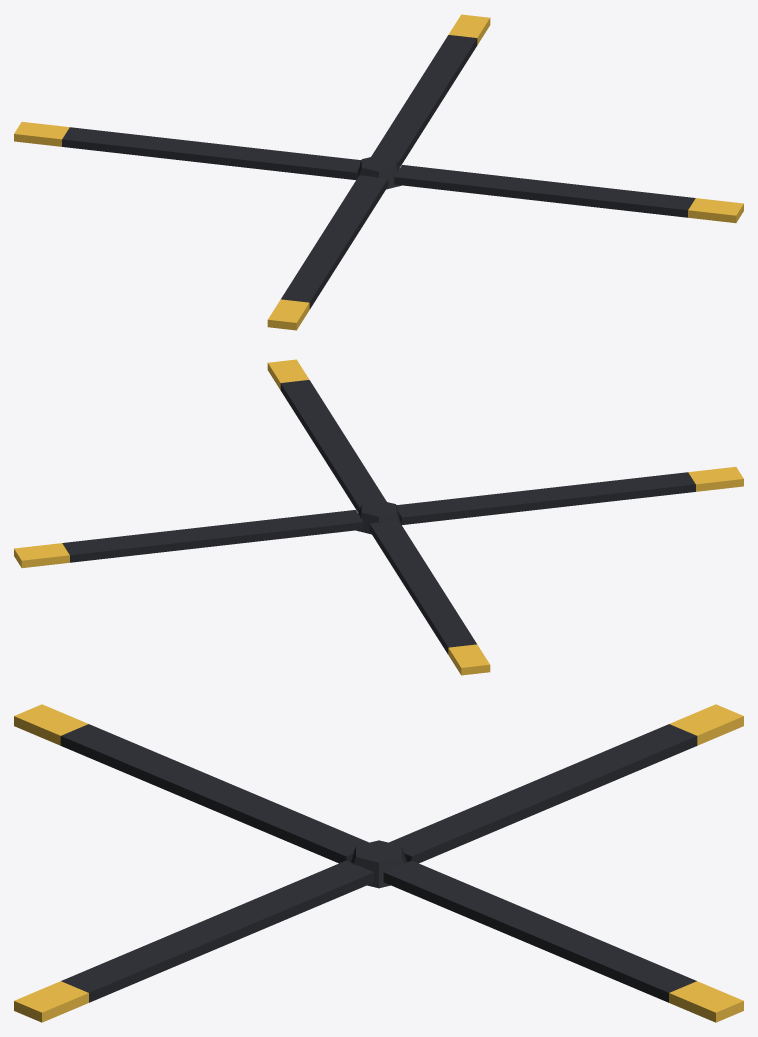
File: V_PoliceHeliRotor.fbx
3 views of the same model, one above another, from view 1: azimuth 30°, elevation 25°; view 2: azimuth 150°, elevation 25°; view 3: azimuth 270°, elevation 25° (orthographic). The views are drawn at different scales.
Visible parts, largest first — view 1: V_PoliceHeliRotor; view 2: V_PoliceHeliRotor; view 3: V_PoliceHeliRotor.
Part boxes in pixels (x1=…): V_PoliceHeliRotor: x1=14, y1=14, x2=743, y2=330; V_PoliceHeliRotor: x1=14, y1=359, x2=743, y2=675; V_PoliceHeliRotor: x1=14, y1=704, x2=743, y2=1022.
Bounding box in the file's own units: 3.31 × 0.11 × 3.31.
